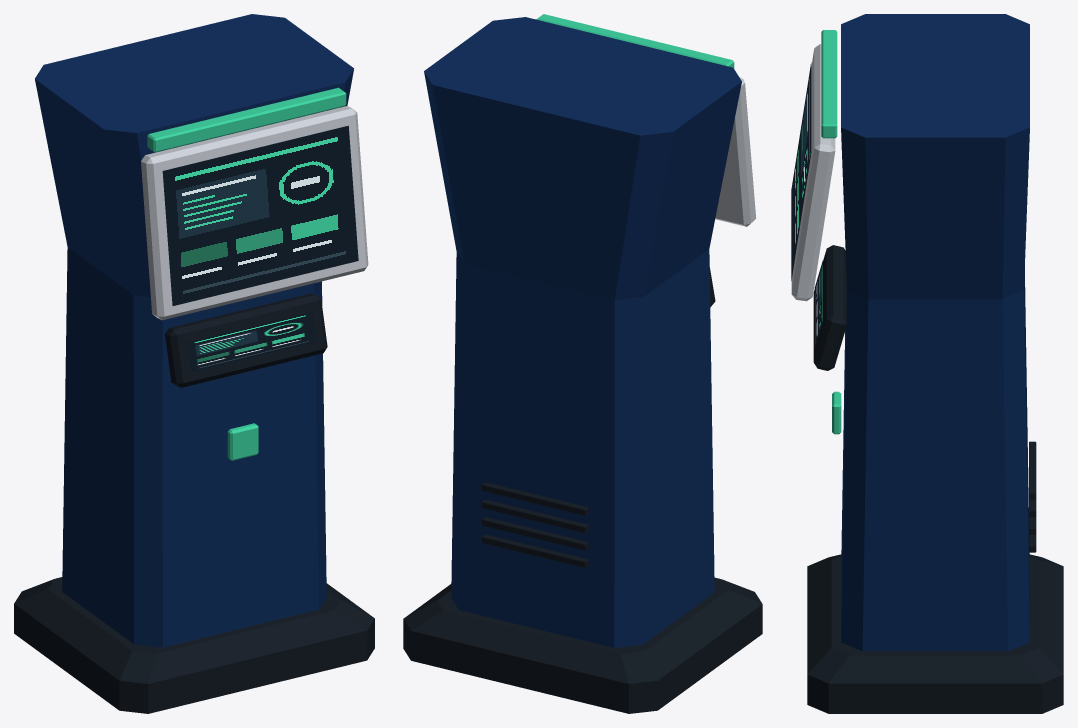
The model's file is terminal-pedestal-compact-daeyang.glb.
The picture shows the model from 3 angles, left to right: view 1: azimuth 30°, elevation 25°; view 2: azimuth 150°, elevation 25°; view 3: azimuth 270°, elevation 25°; orthographic projection.
Parts seen in each view (by area): view 1: Housing, Rubber, Display, Trim, Identity; view 2: Housing, Rubber, Trim, Identity; view 3: Housing, Rubber, Trim, Display, Identity.
Boxes of the visible parts, x1=… form: Housing: x1=35, y1=14, x2=353, y2=647; Rubber: x1=14, y1=293, x2=374, y2=713; Display: x1=162, y1=125, x2=358, y2=372; Trim: x1=141, y1=106, x2=368, y2=320; Identity: x1=147, y1=87, x2=346, y2=460; Housing: x1=424, y1=17, x2=741, y2=647; Rubber: x1=403, y1=267, x2=762, y2=713; Trim: x1=715, y1=77, x2=756, y2=226; Identity: x1=536, y1=14, x2=734, y2=68; Housing: x1=841, y1=14, x2=1029, y2=651; Rubber: x1=807, y1=245, x2=1063, y2=713; Trim: x1=791, y1=44, x2=835, y2=301; Display: x1=791, y1=62, x2=822, y2=349; Identity: x1=821, y1=30, x2=841, y2=434.
Size of the model in its own units: 0.392 by 0.832 by 0.357.
Materials: 5 (1 with a texture image).
